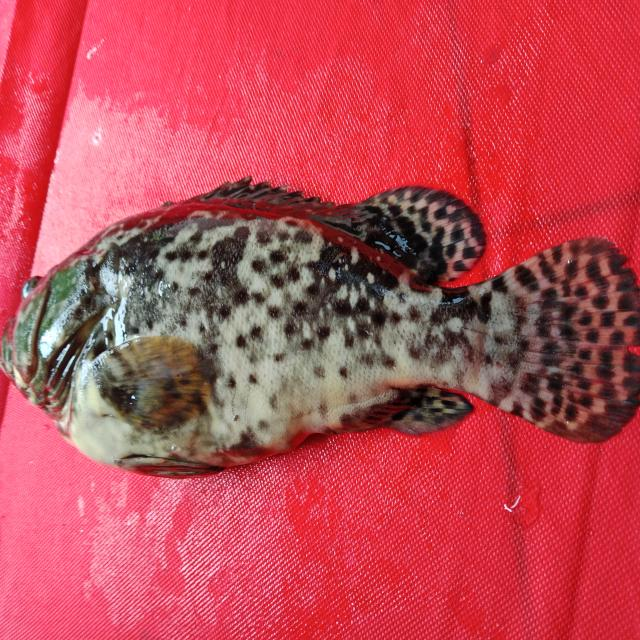ikan: (7, 154, 631, 490)
